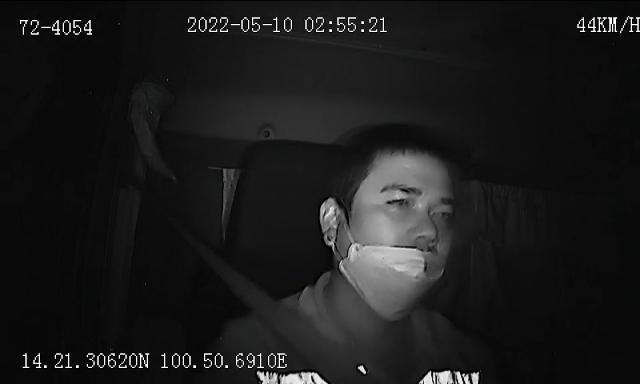SafeDriving: (380, 188, 419, 212), (427, 201, 459, 225)
Seatbelt: (184, 228, 372, 384)
